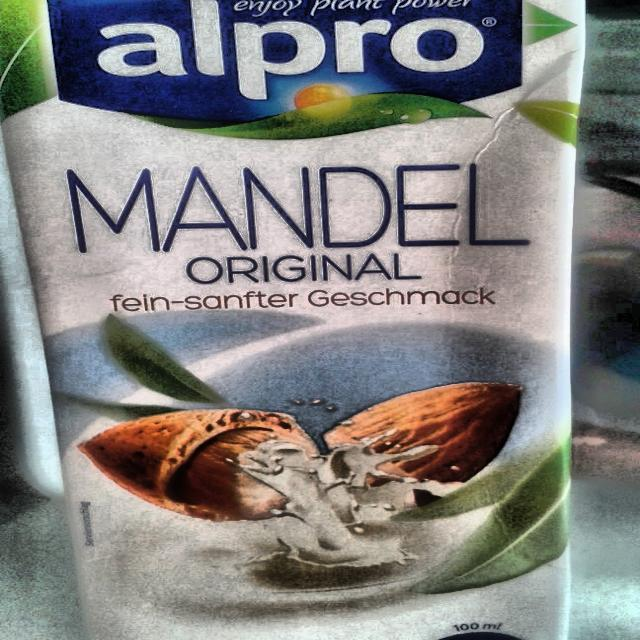cardboard: (2, 0, 588, 639)
